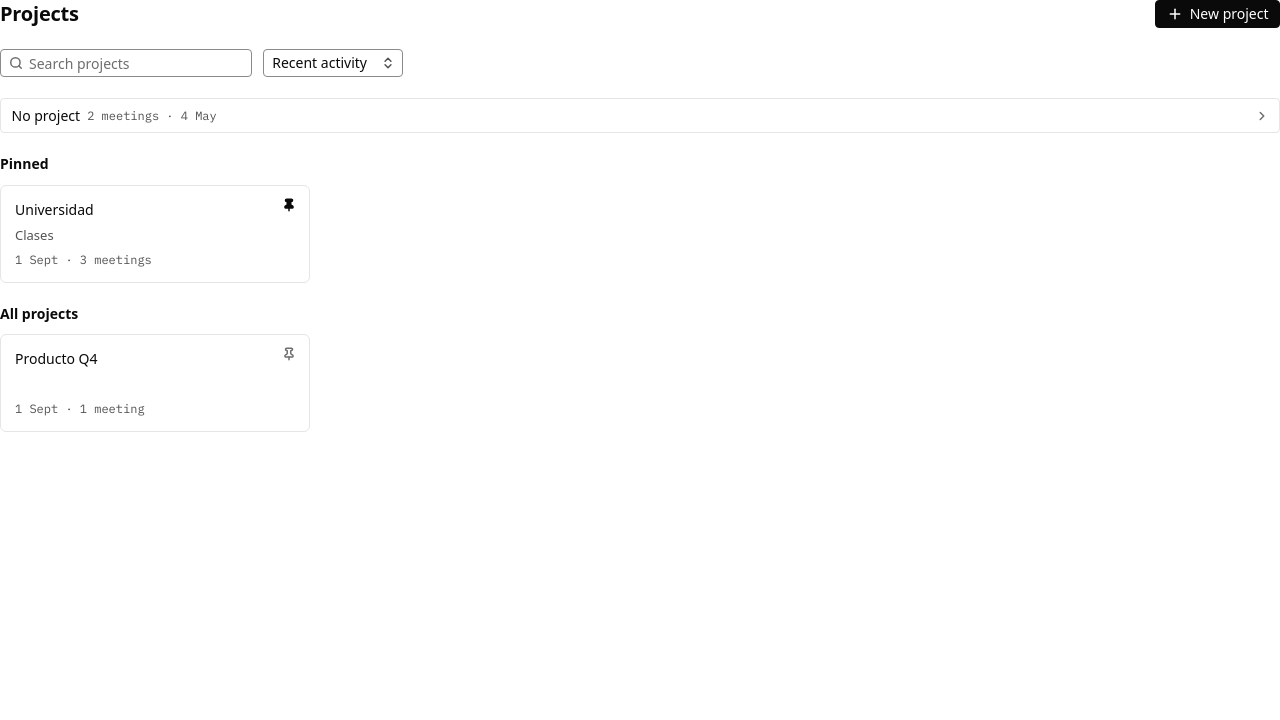
Test case: accessibility of the Projects tab › state is never carried by color alone: pinned has its own name and a filled icon, errors are words with an icon
The width and height of the screenshot is (1280, 720).
Click the button "New project" at x=1218, y=14, box [1155,0,1279,28]
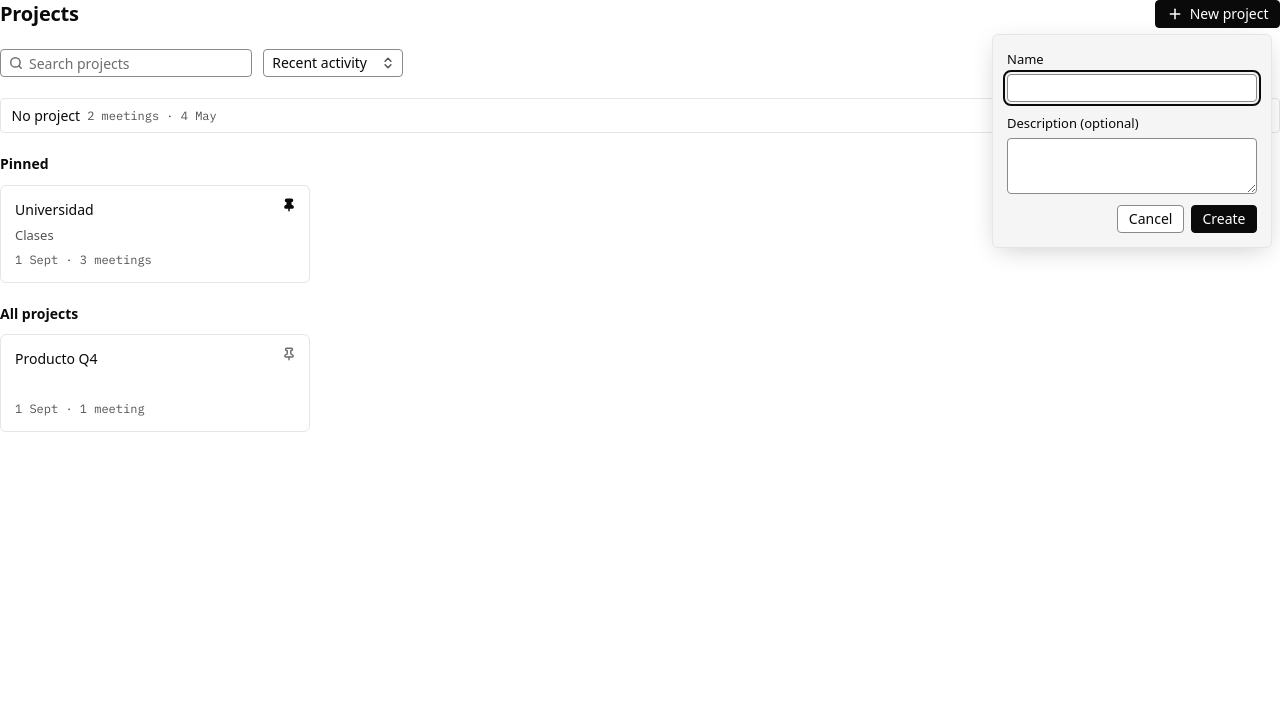
Click the button "Create" at x=1224, y=218, box [1191,204,1257,232]
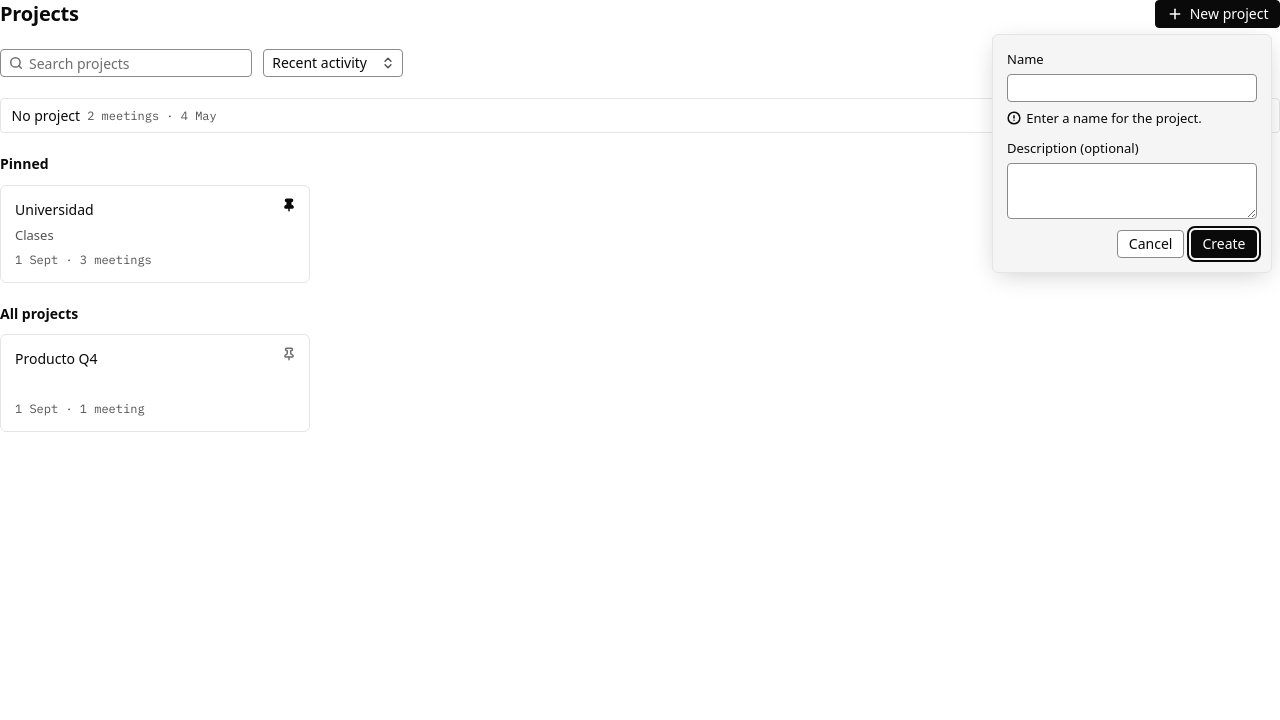
Expected: the icon next to "Enter a name for the project." is shown, [1007,110,1021,124]
